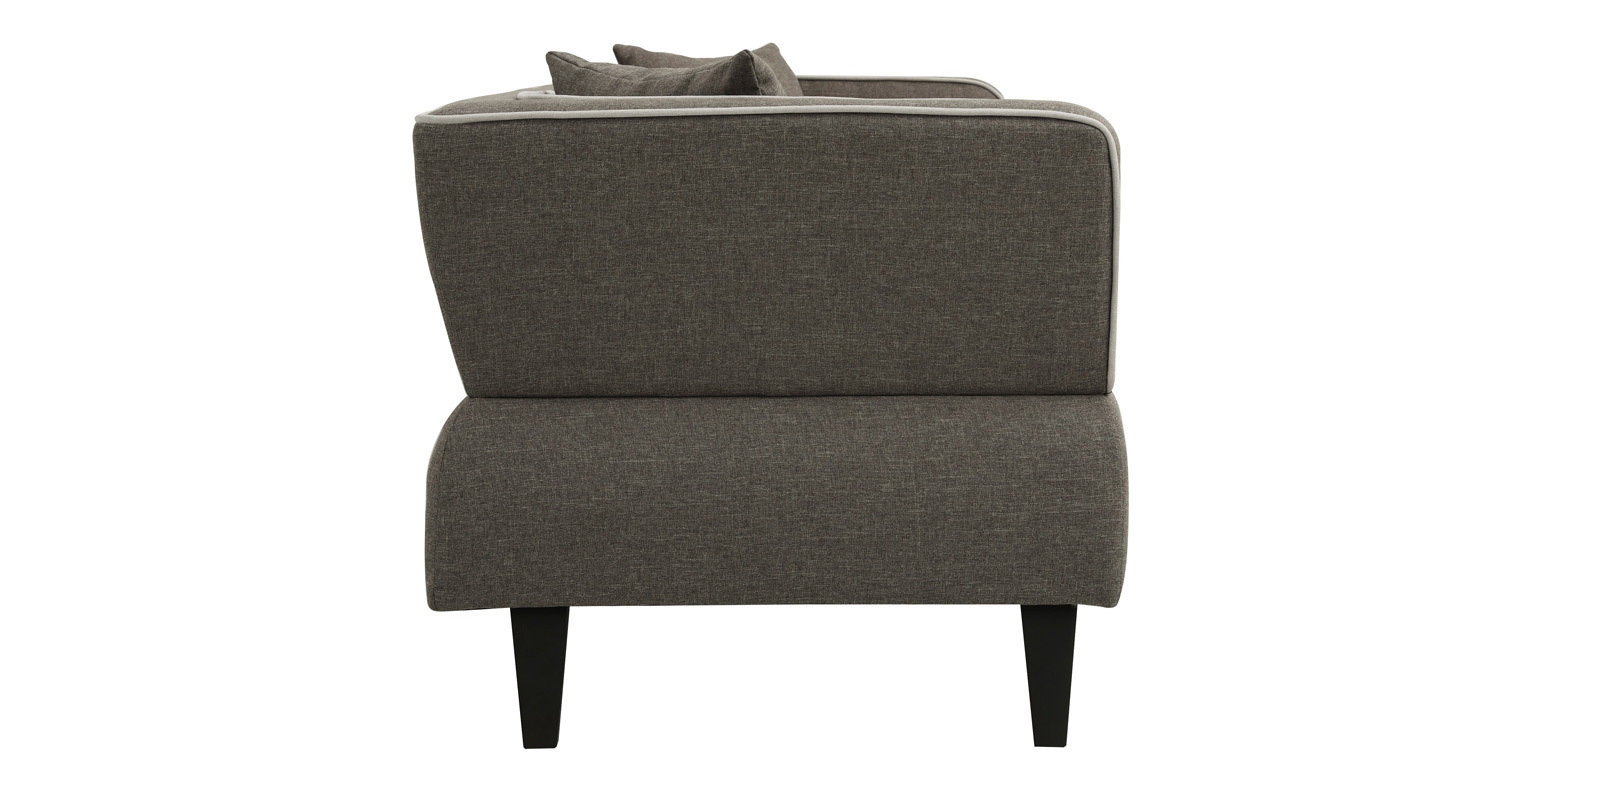Dime Three Seater Sofa in Grey Colour by Zofa: (376, 24, 1162, 776)
